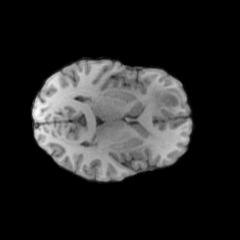glioma: (153, 88, 179, 113)
